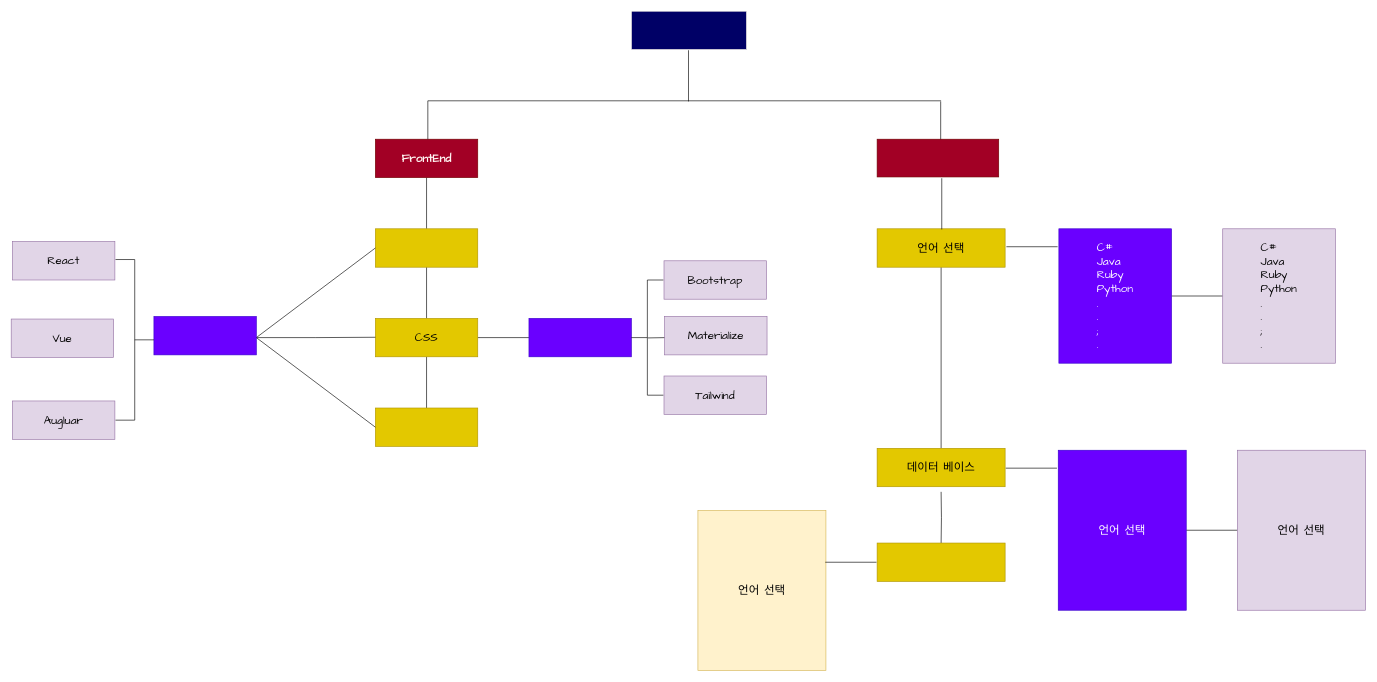
This 1377x682 diagram has some shape labels left out. Here are the shapes that lost their labels. From the top down, the centre of each, then its label:
point (689, 30): Full Stack
point (937, 158): BackEnd
point (426, 247): HTML
point (204, 335): FrontEnd Framework
point (579, 337): CSS Framework
point (426, 426): JavaScript
point (940, 561): 배포
